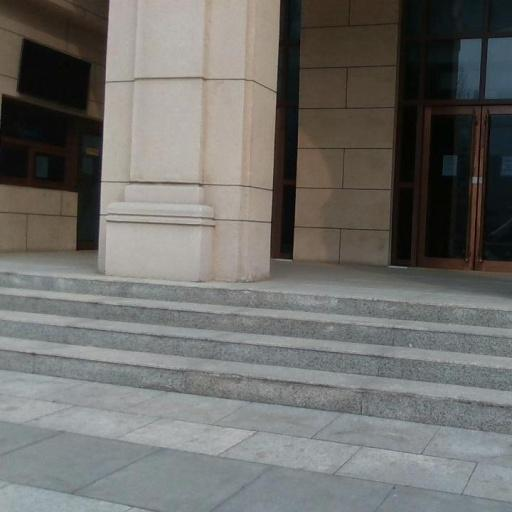stairs: (0, 272, 511, 433)
